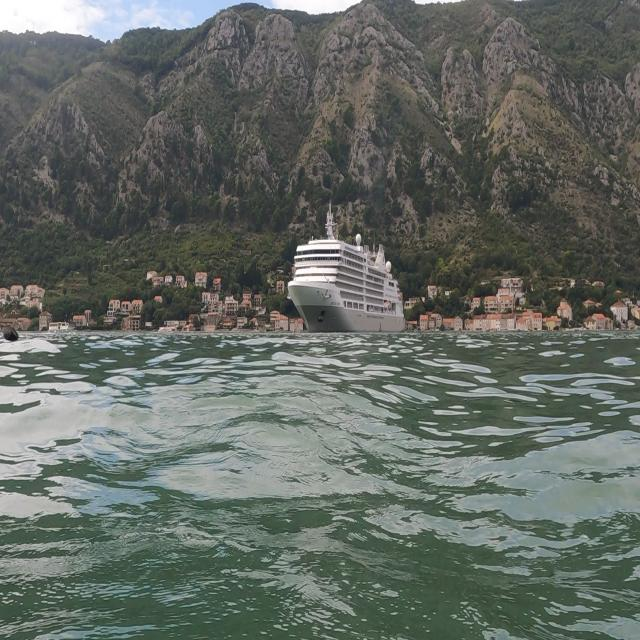boat: (286, 198, 408, 335)
buoy: (0, 314, 21, 352)
